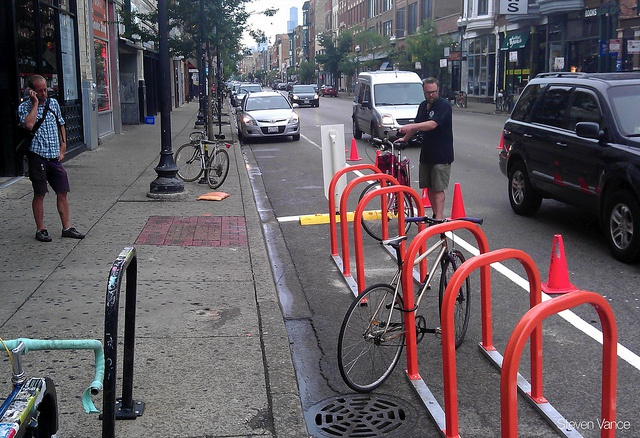non-vehicle: (332, 219, 479, 378), (359, 133, 412, 241), (174, 130, 233, 189), (454, 90, 467, 108)
